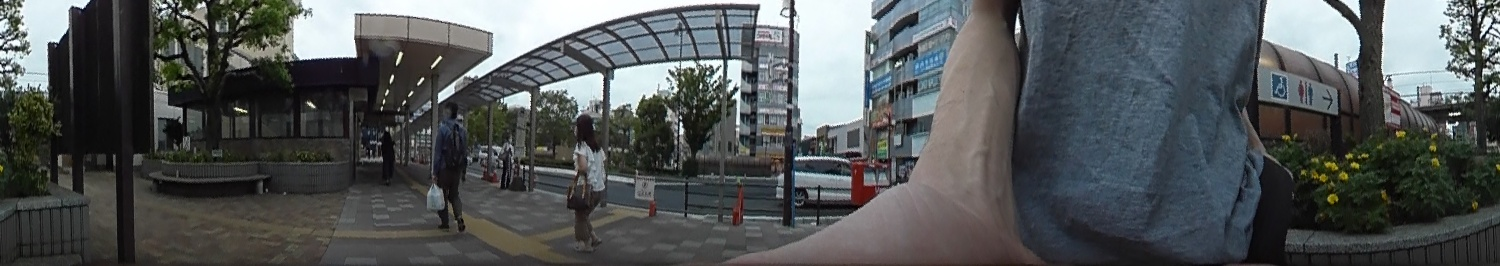person: (568, 112, 606, 249), (433, 100, 469, 229), (377, 125, 398, 186), (500, 135, 516, 188)
